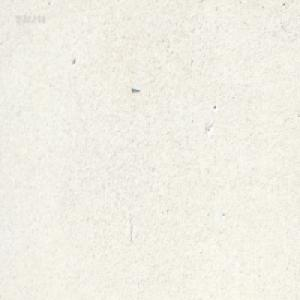Nail: (130, 86, 140, 92)
